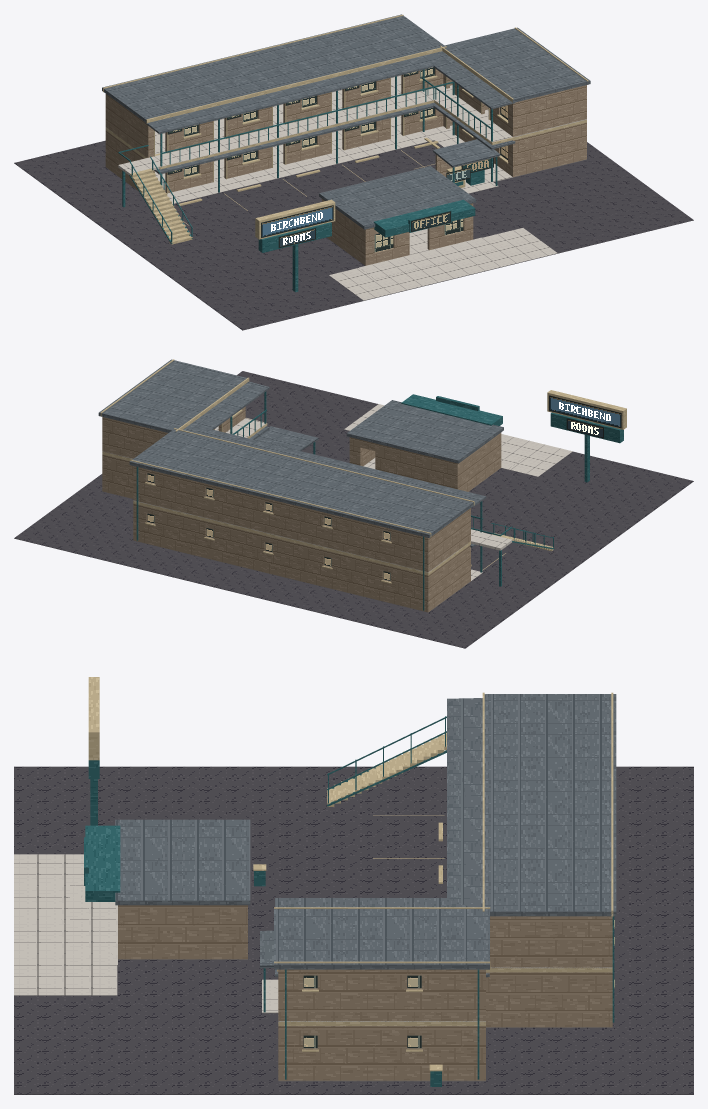
The model's file is birchbend-1985.glb.
The picture shows the model from 3 angles, top to bottom: view 1: azimuth 30°, elevation 25°; view 2: azimuth 150°, elevation 25°; view 3: azimuth 270°, elevation 25°; orthographic projection. The views are drawn at different scales.
Visible parts, largest first — view 1: shell, lot, exterior_stair, interior, roadside_sign, sign_name_street; view 2: shell, lot, roadside_sign, sign_name_exit, exterior_stair, interior; view 3: lot, shell, exterior_stair, roadside_sign, interior.
Part boxes in pixels (x1,y1,x2,y2): shell: (102,14,590,265); lot: (14,137,693,330); exterior_stair: (118,145,192,244); interior: (106,75,586,265); roadside_sign: (255,199,335,292); sign_name_street: (261,205,333,237); shell: (98,359,503,612); lot: (14,371,693,648); roadside_sign: (547,390,626,482); sign_name_exit: (549,395,621,428); exterior_stair: (471,523,554,586); interior: (102,426,500,612); lot: (14,766,693,1094); shell: (84,692,616,1080); exterior_stair: (327,716,446,806); roadside_sign: (88,677,99,825); interior: (118,959,612,1081).
Size of what is drawn, in the model's own units: 35.8 by 6.15 by 31.4.
8 materials, 8 textured.
